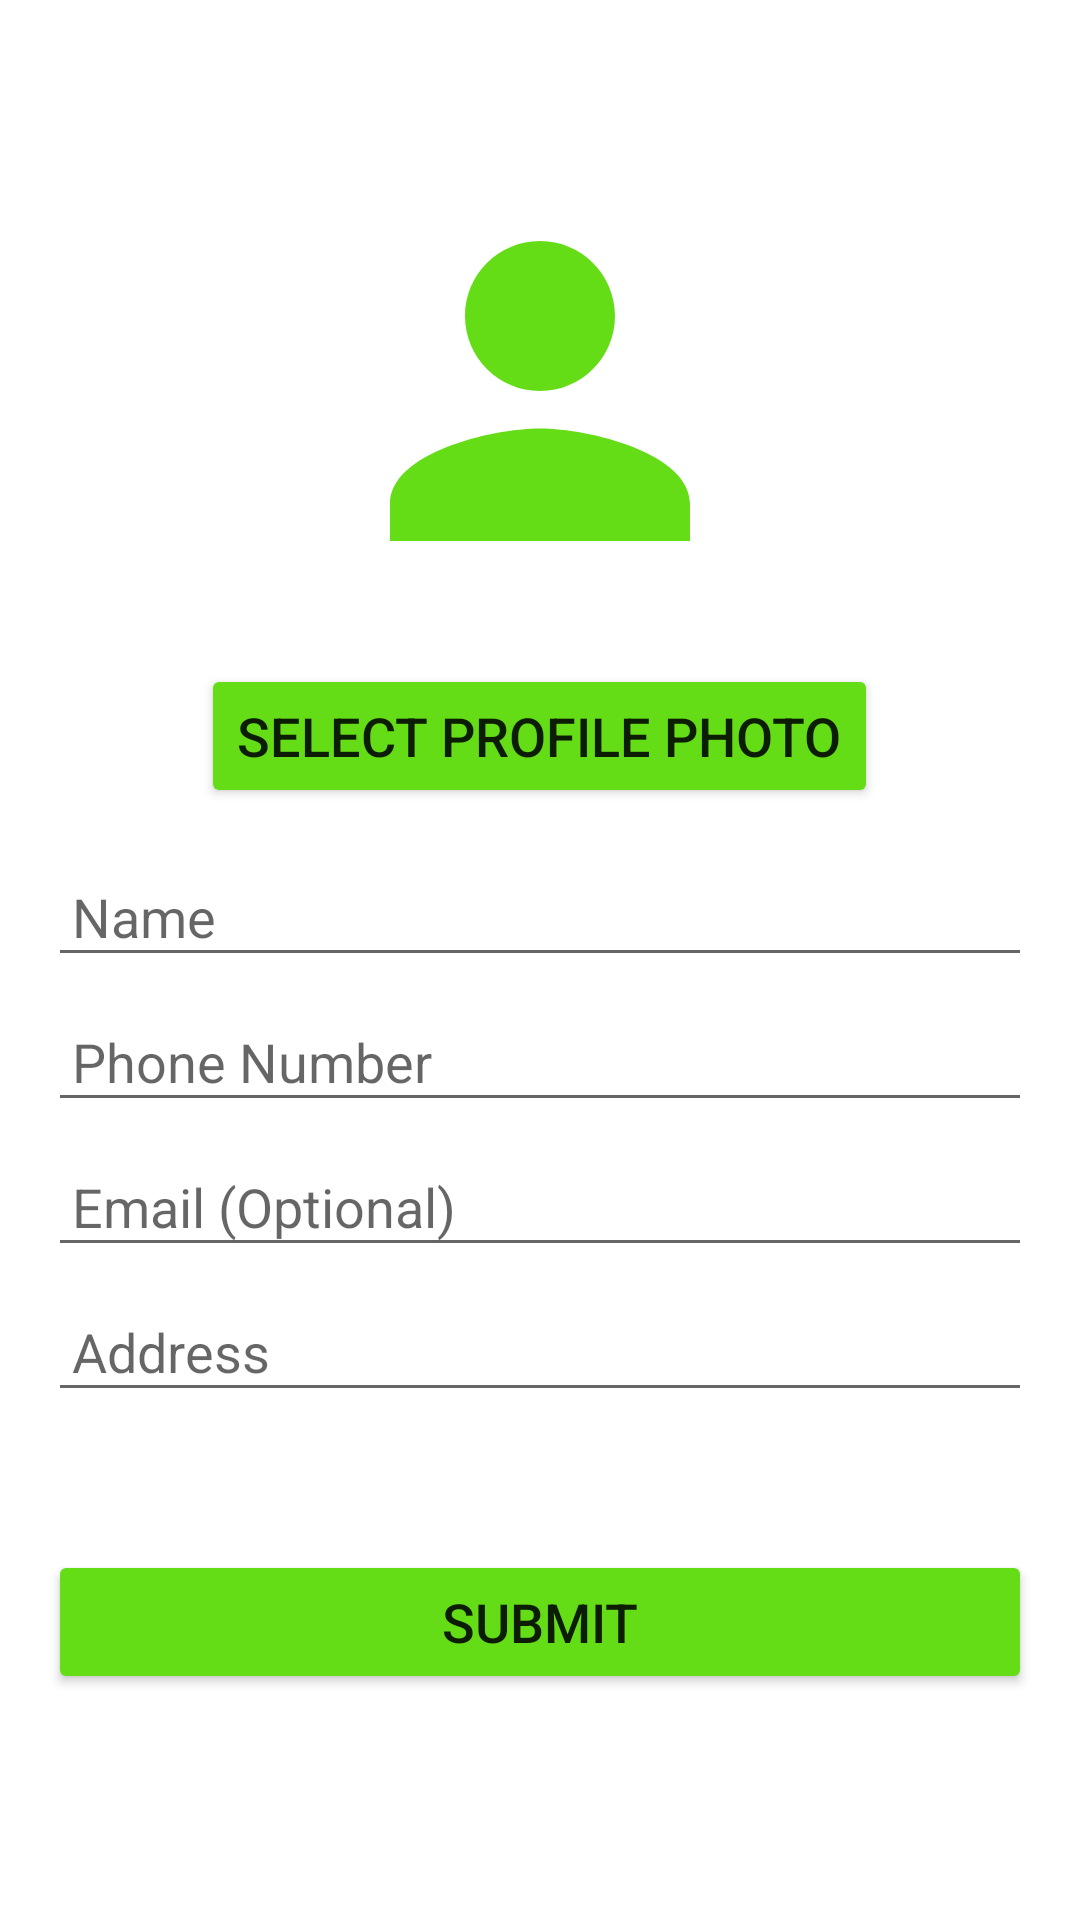

Where icons sit on this 1080px×1920px app screen, as (x1,y1,x2,y2):
person: (390,241,690,541)
